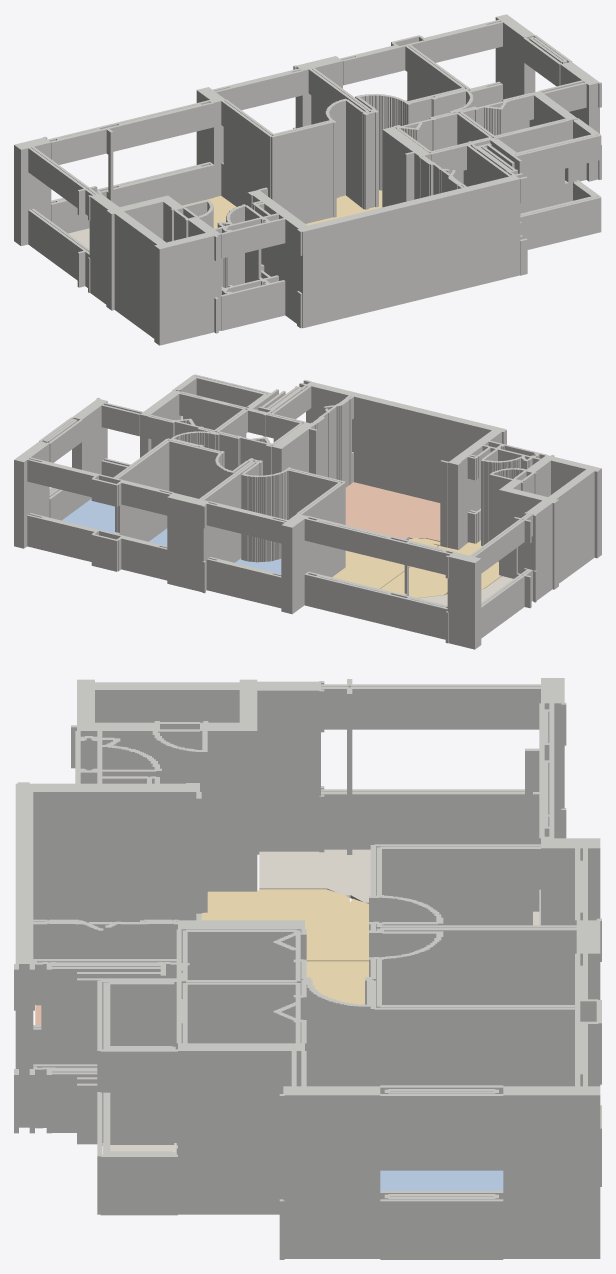
3 renders of one model, top to bottom at view 1: azimuth 30°, elevation 25°; view 2: azimuth 150°, elevation 25°; view 3: azimuth 270°, elevation 25°, orthographic. The views are drawn at different scales.
Parts seen in each view (by area): view 1: walls, room:living:10; view 2: walls, room:kitchen:2, room:living:9, room:living:10, room:bedroom:0, room:other:13, room:bedroom:12; view 3: walls, room:living:9, room:other:13, room:bedroom:0, room:living:10.
Part boxes in pixels (<box>): walls: <box>14,14,601,345</box>; room:living:10: <box>182,190,382,228</box>; walls: <box>14,374,601,649</box>; room:kitchen:2: <box>345,482,440,541</box>; room:living:9: <box>380,540,501,598</box>; room:living:10: <box>332,538,440,588</box>; room:bedroom:0: <box>62,499,114,532</box>; room:other:13: <box>418,576,513,605</box>; room:bedroom:12: <box>235,558,281,573</box>; walls: <box>14,678,601,1259</box>; room:living:9: <box>201,889,368,961</box>; room:other:13: <box>259,849,539,925</box>; room:bedroom:0: <box>380,1170,503,1190</box>; room:living:10: <box>306,961,368,1004</box>.
Size of the model in its own units: 15.32 by 2.8 by 9.11.
